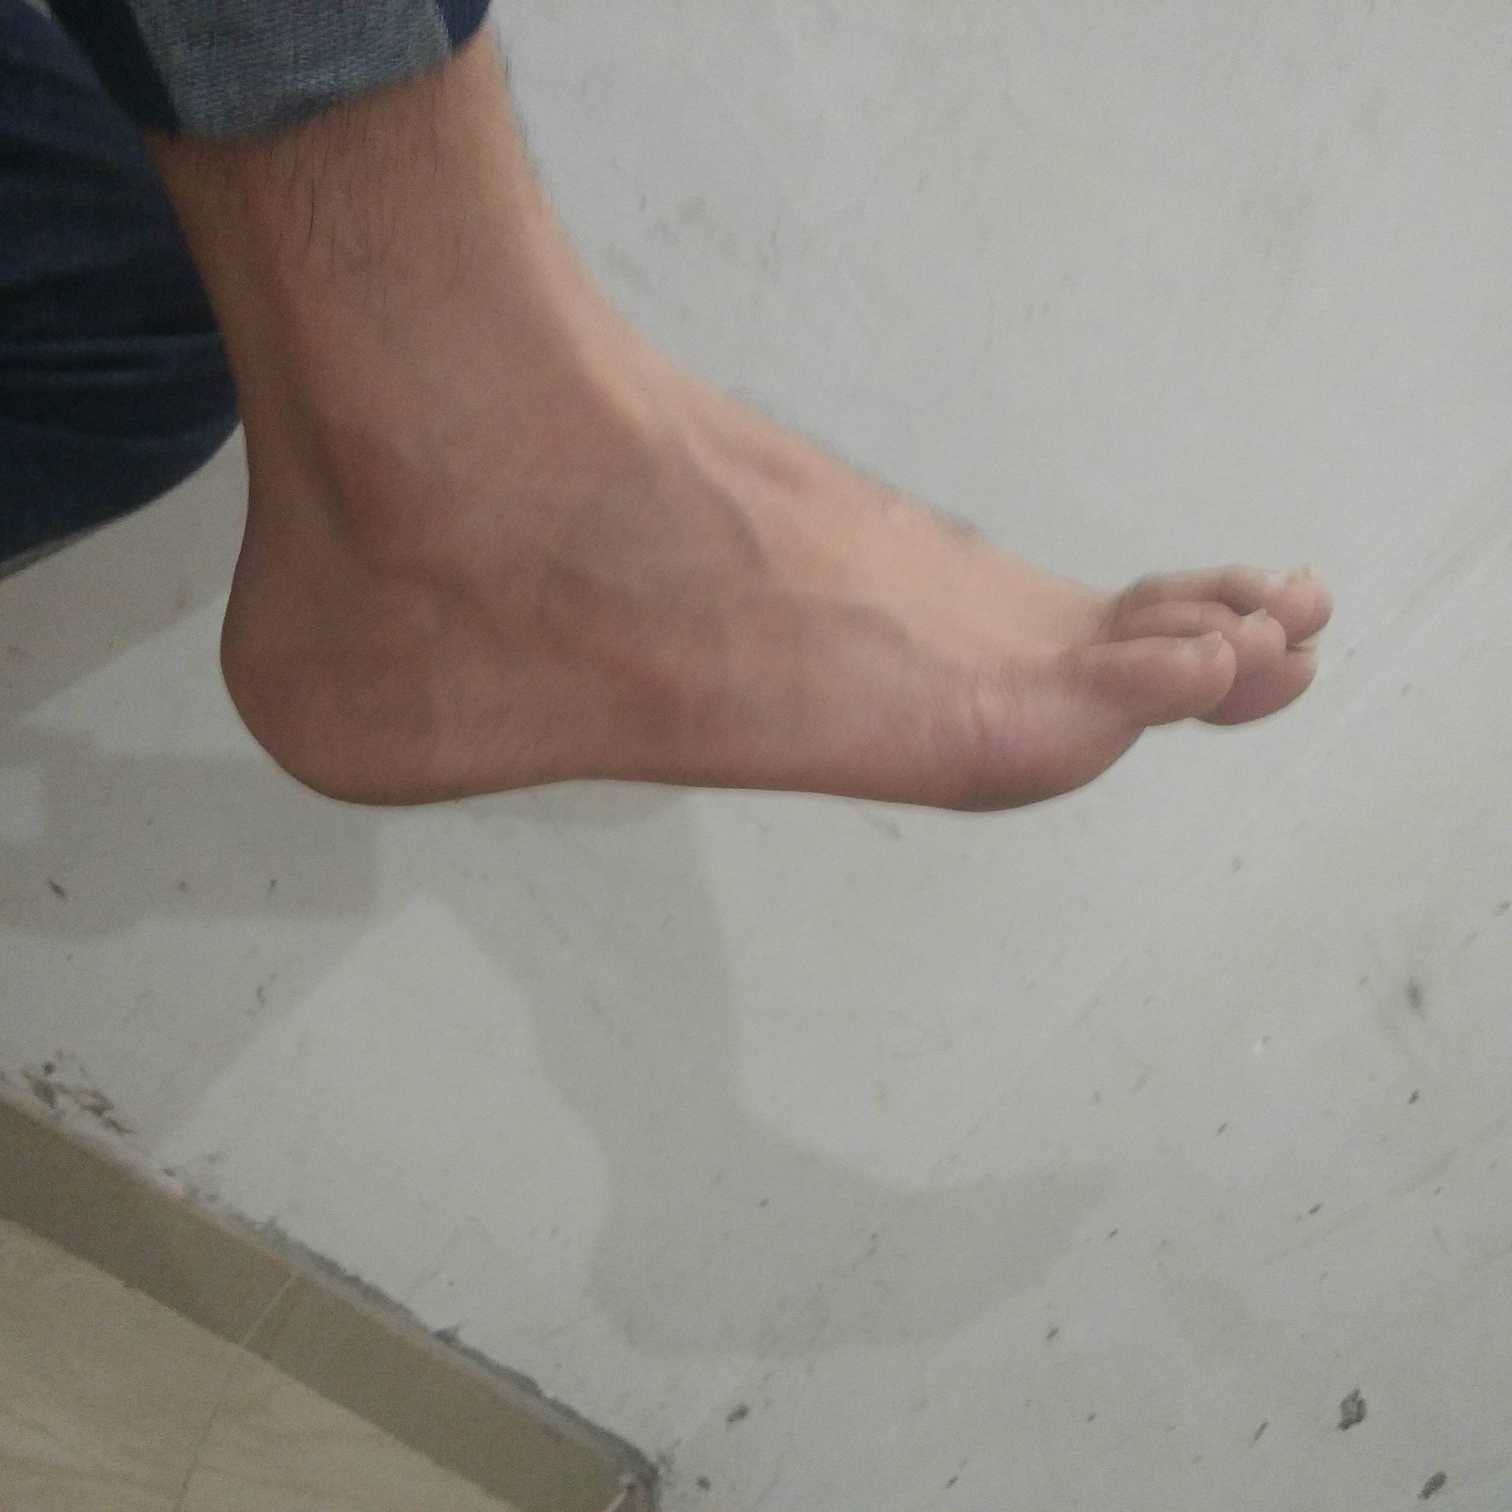foot: (212, 378, 1351, 817)
